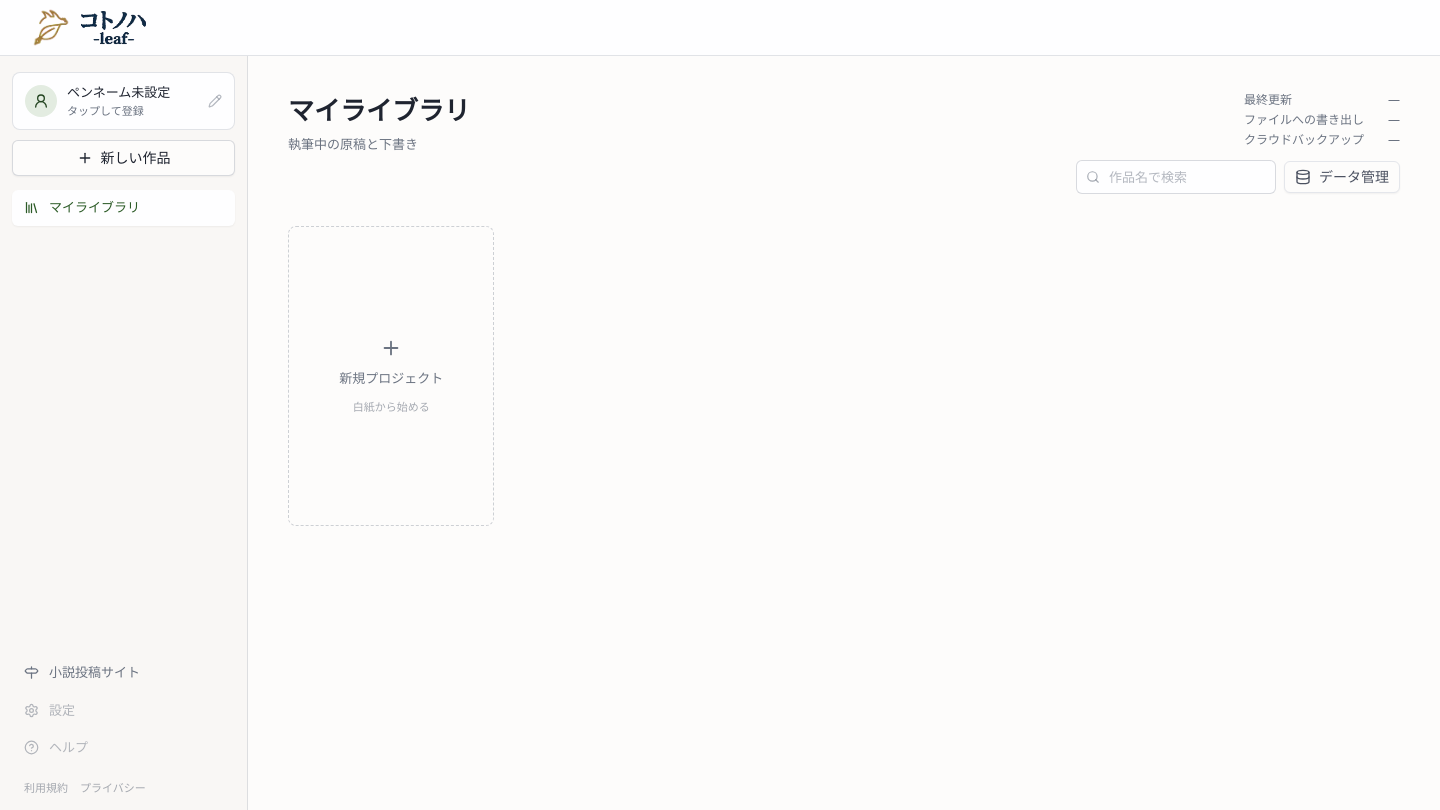
Test: Library 作成・表示 › 「作成」してもエディタへ遷移せず、一覧に作品が増える
Click the button "新規プロジェクト 白紙から始める" at (391, 376), box [288,226,494,526]
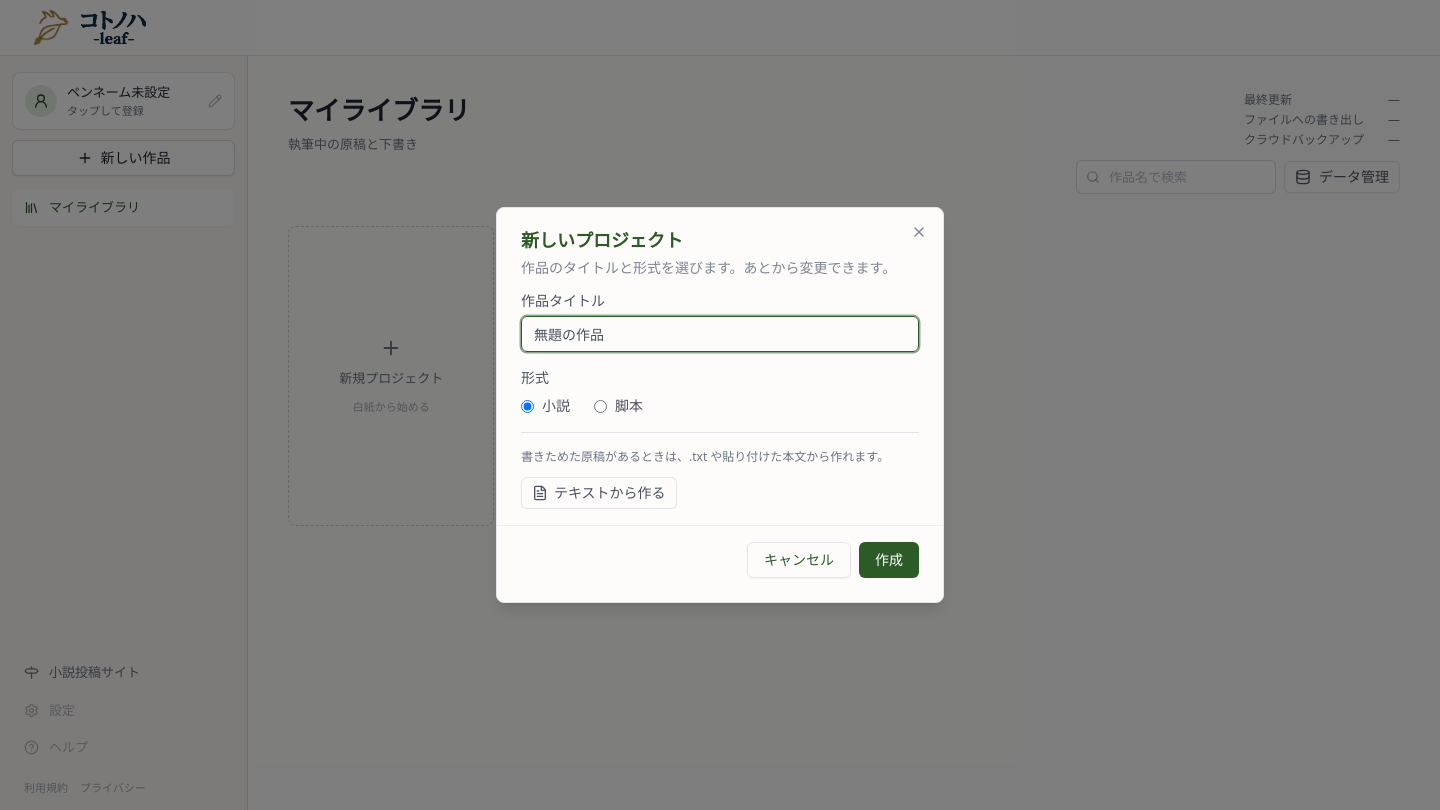
Type "新しい物語" into the field labelled "作品タイトル" at (720, 334), box [521,316,919,352]
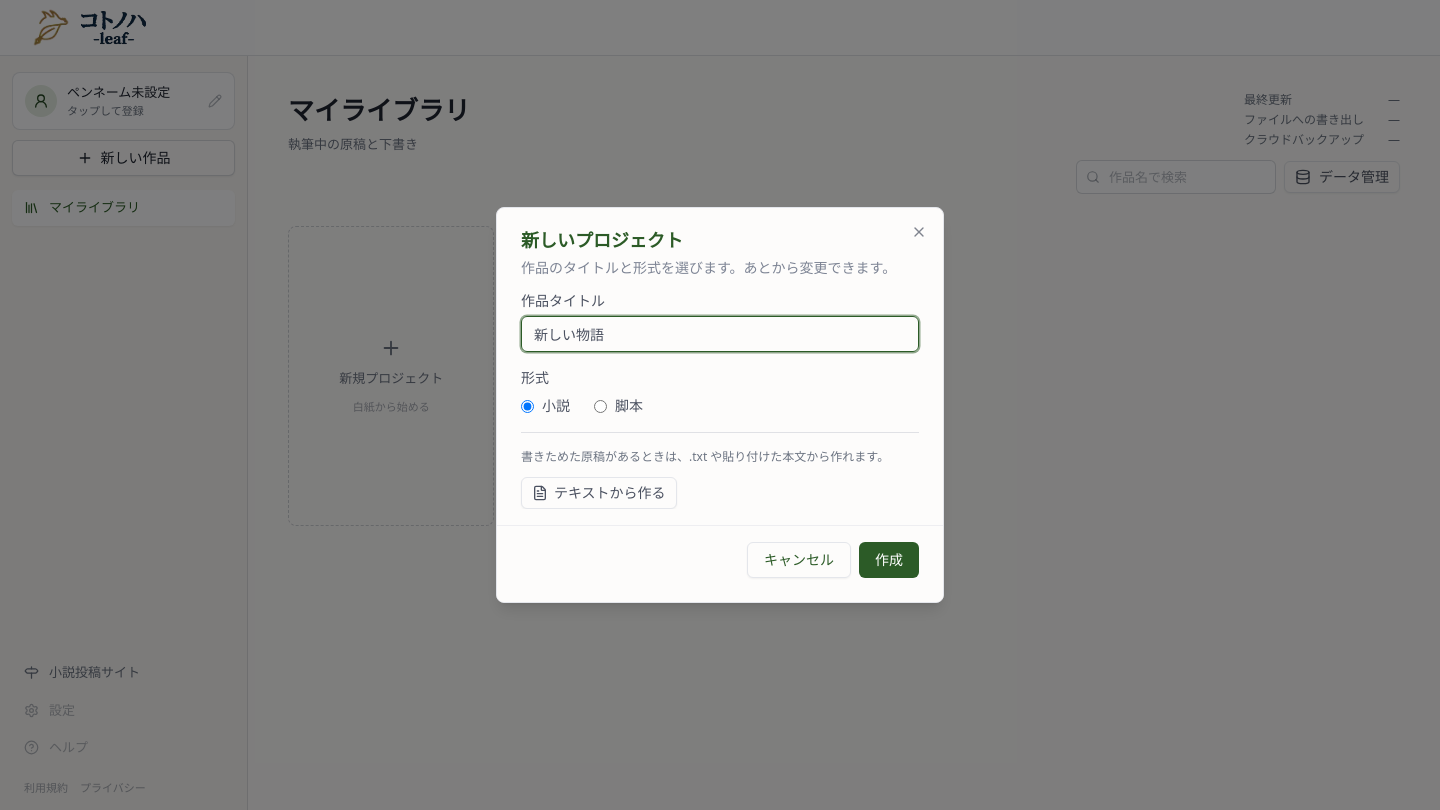
Click the button "作成" at (889, 560), box [859,542,919,578]
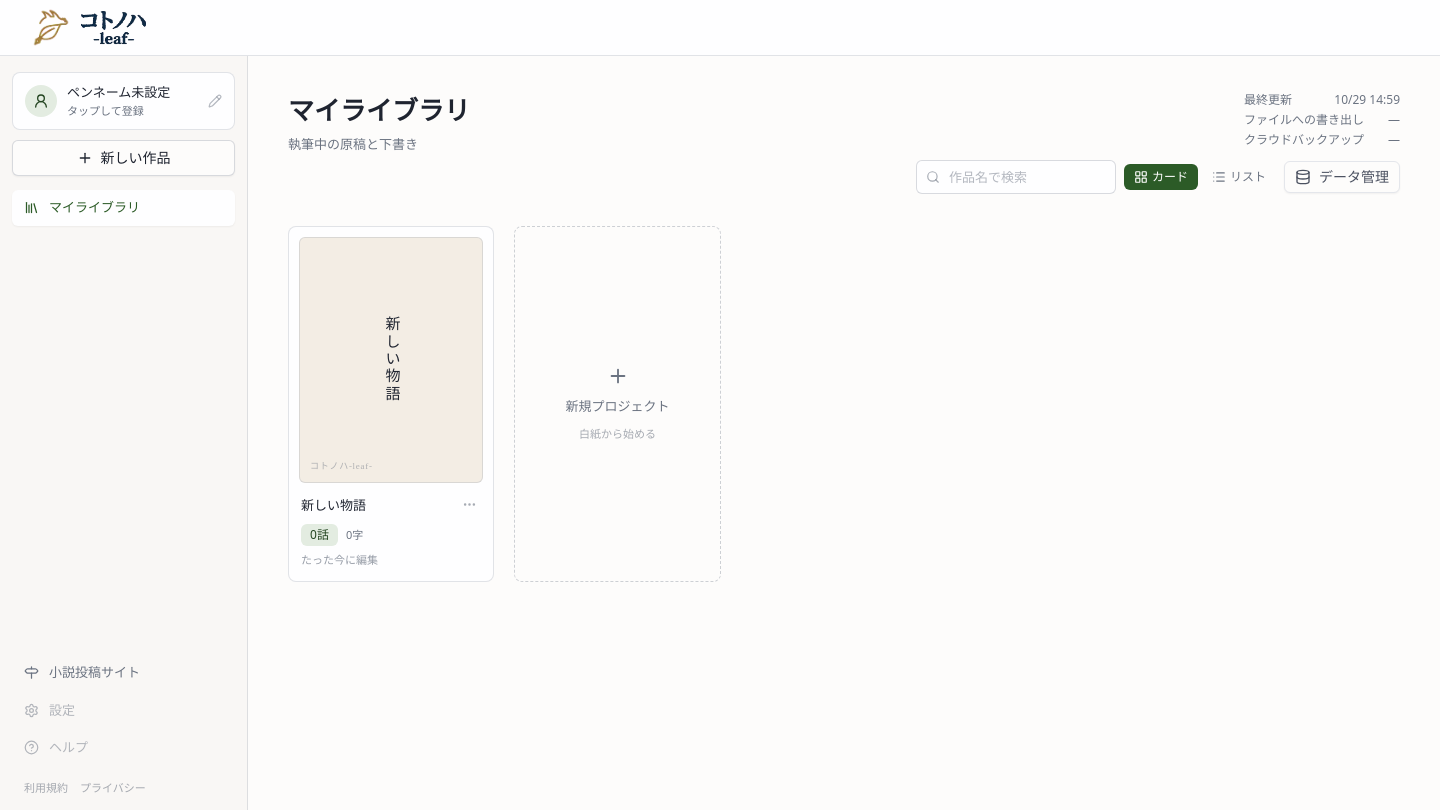
Expected: the heading "新しい物語" is shown, [301,496,366,514]
